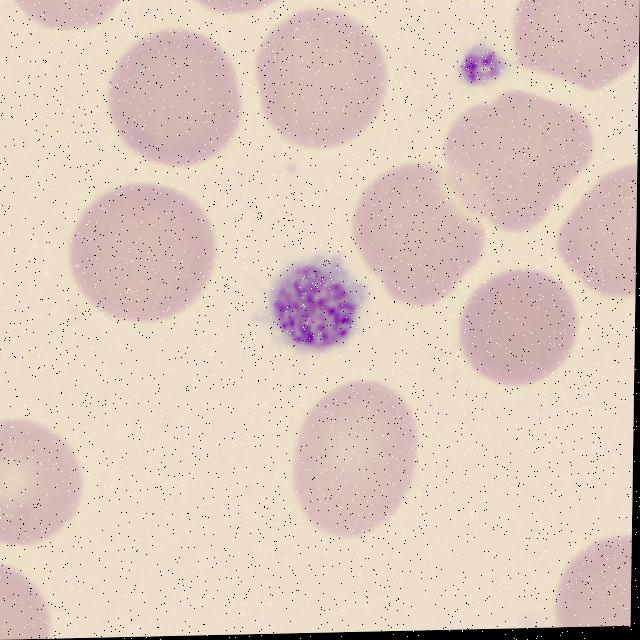platelets: (264, 255, 364, 354), (452, 32, 518, 105)
rbc: (287, 377, 424, 545), (65, 188, 228, 329), (444, 97, 596, 236), (356, 159, 489, 311), (103, 31, 243, 172), (254, 19, 390, 150), (458, 259, 585, 393), (551, 163, 637, 317), (510, 0, 640, 98), (529, 507, 632, 628), (0, 414, 83, 560), (0, 0, 147, 60), (0, 560, 57, 640), (174, 0, 316, 23), (393, 0, 511, 8)
